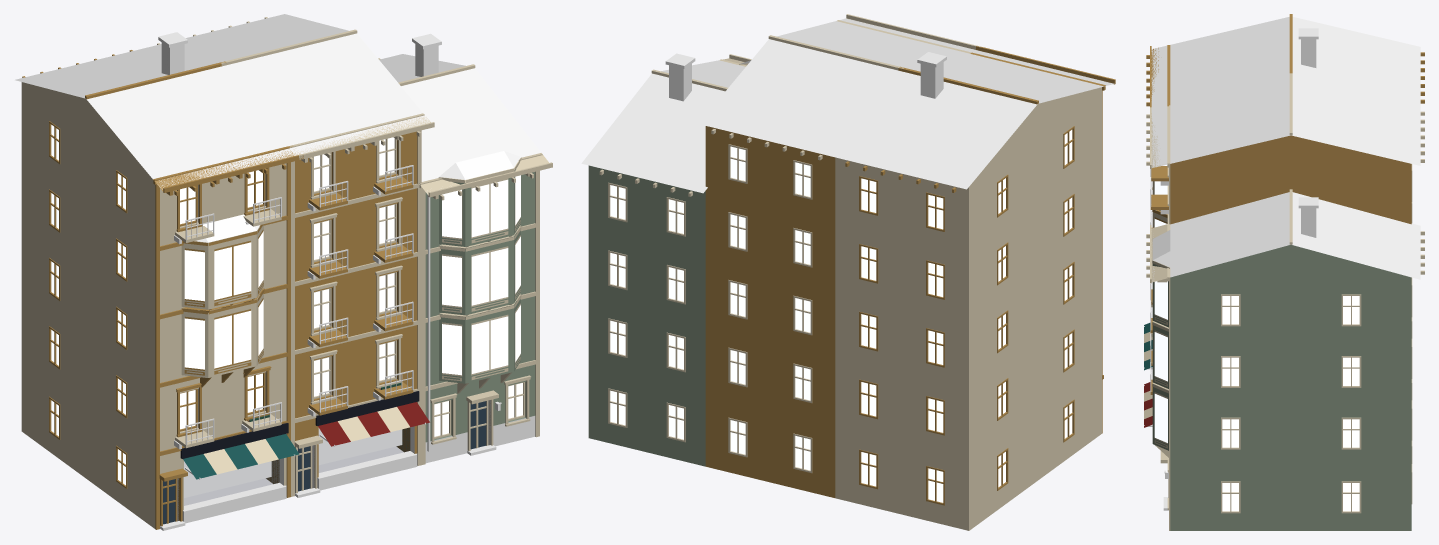
The model's file is bld_ahsap_row_c.glb.
The picture shows the model from 3 angles, left to right: view 1: azimuth 30°, elevation 25°; view 2: azimuth 150°, elevation 25°; view 3: azimuth 270°, elevation 25°; orthographic projection. The views are drawn at different scales.
Visible parts, largest first — view 1: LOD0; view 2: LOD0; view 3: LOD0.
Part boxes in pixels (x1=…): LOD0: x1=15, y1=14, x2=552, y2=530; LOD0: x1=581, y1=14, x2=1115, y2=530; LOD0: x1=1144, y1=14, x2=1424, y2=530.
Size of what is drawn, in the model's own units: 18.44 by 18.67 by 12.8.
